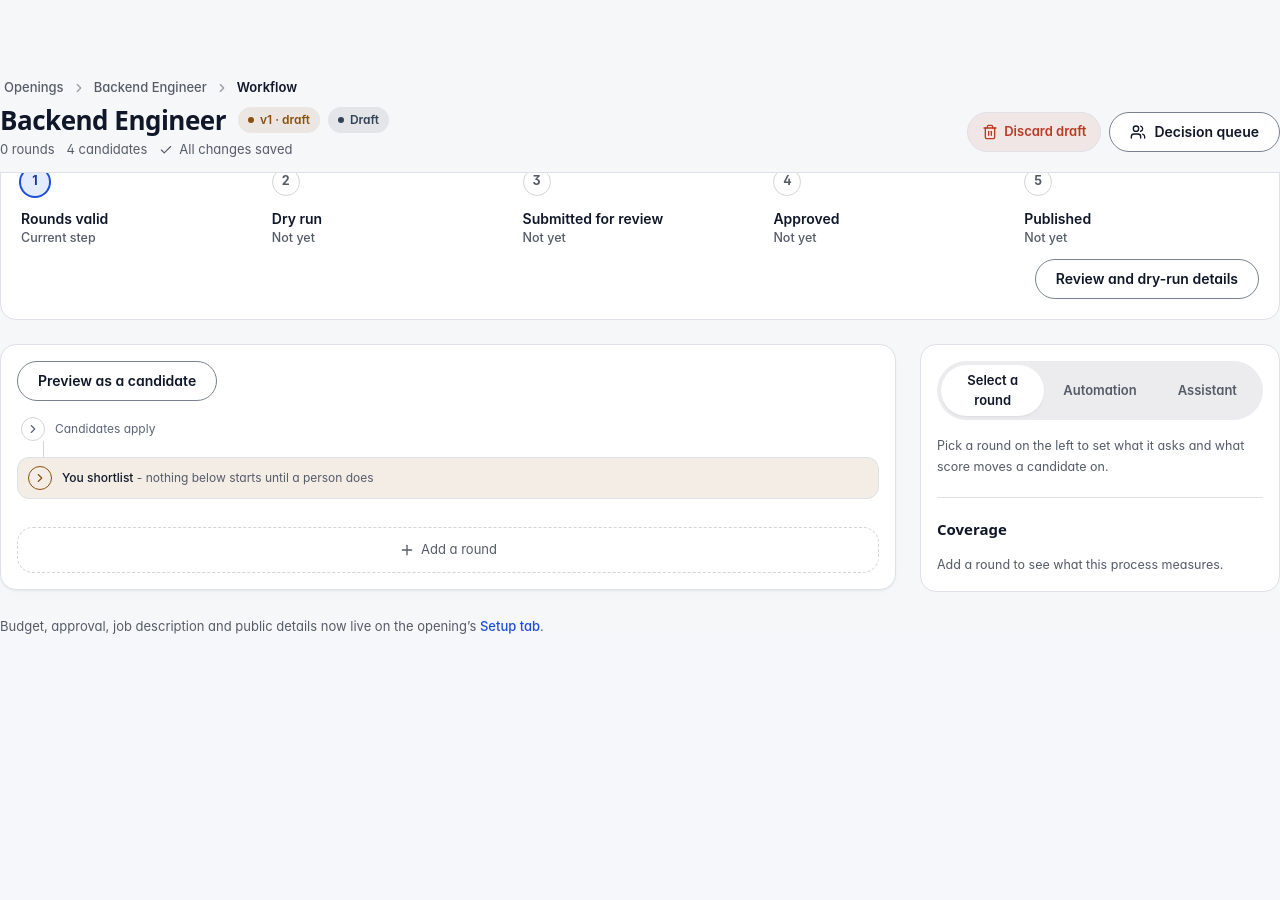
Test: WorkflowCopilot - citations (PH5-E1) › says no records were read when the reply cites nothing
Click the tab "Assistant" at (1207, 391), box [1156,365,1259,416]
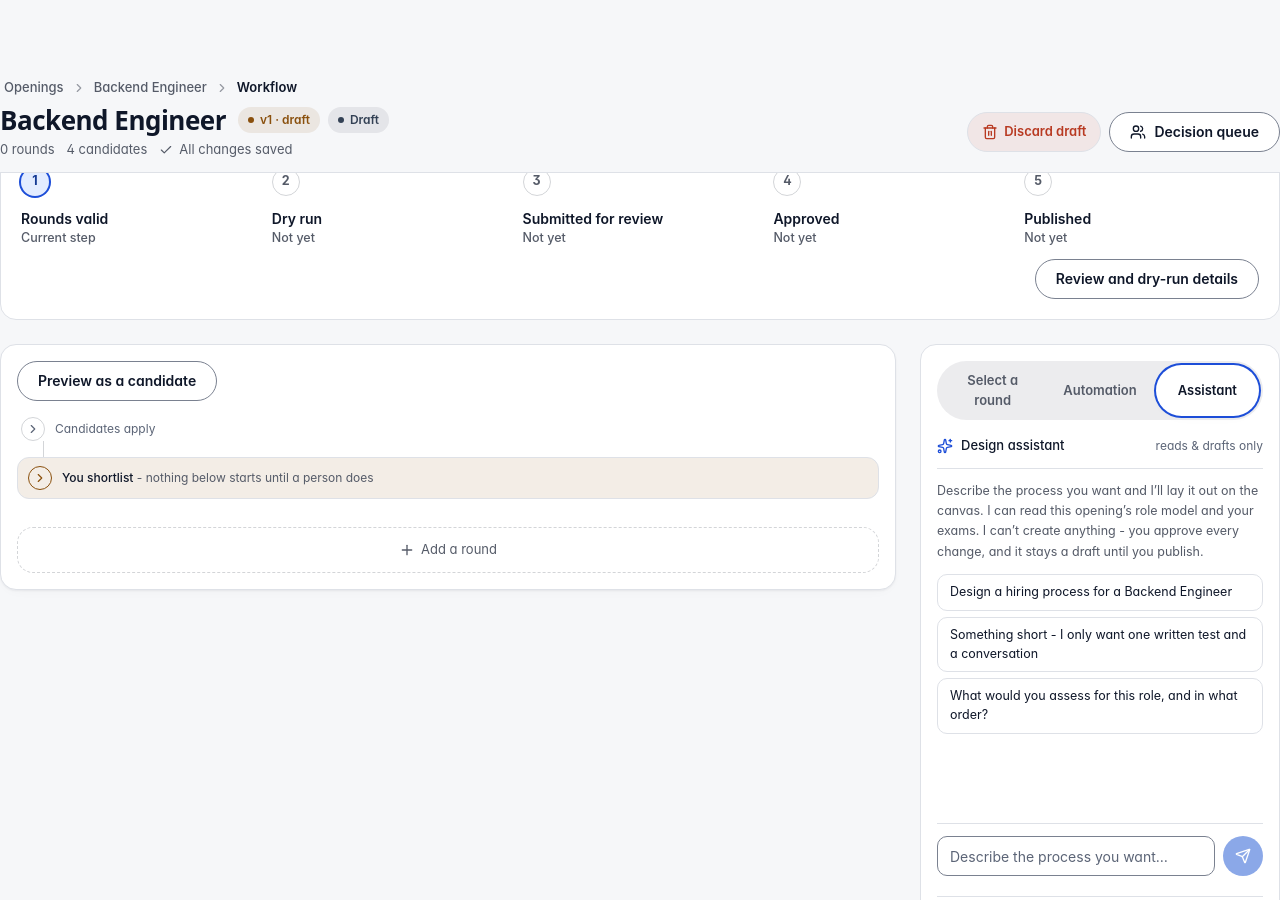
Type "design something short" into the field named "Ask the design assistant" at (1076, 856), box [937,836,1215,876]
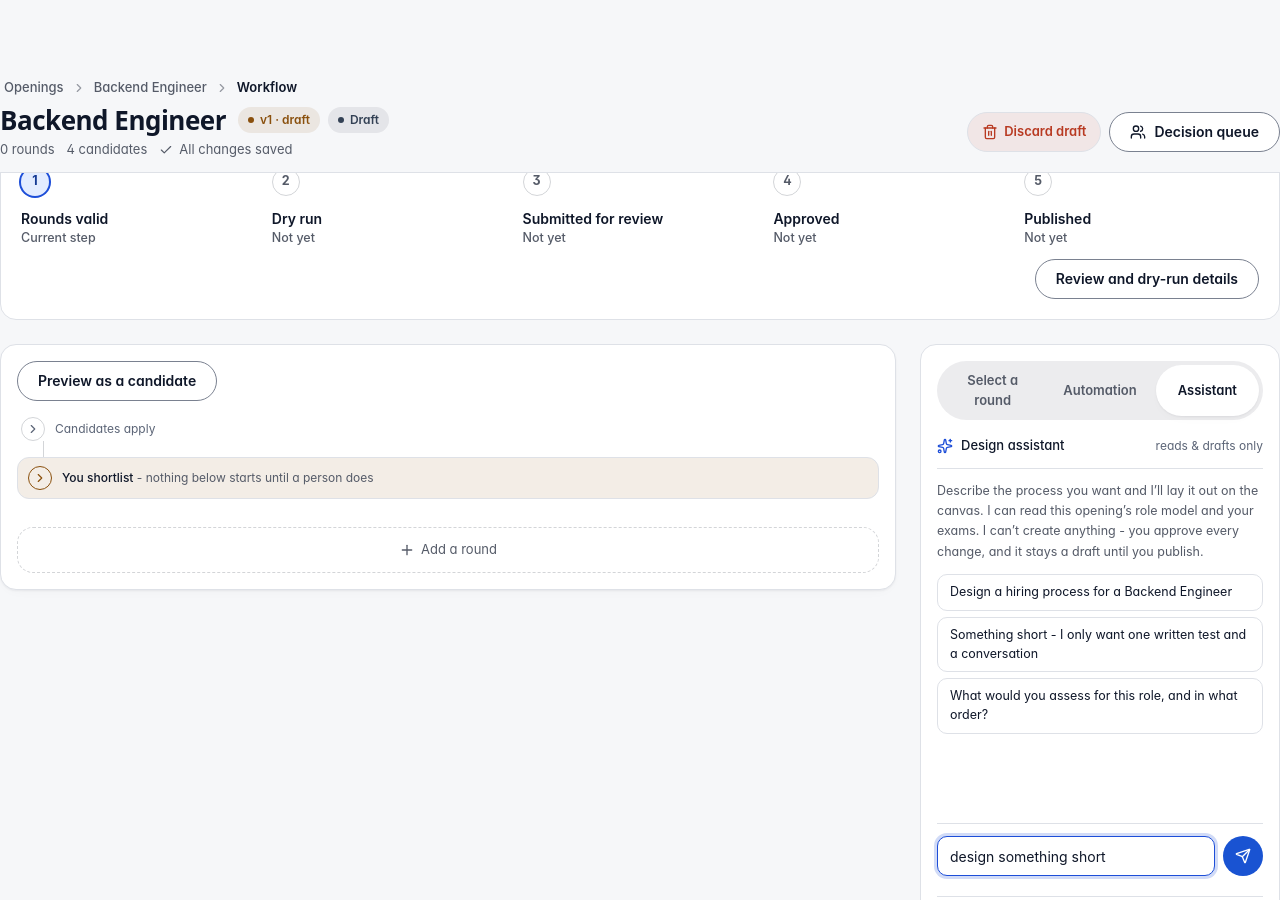
Click the button named "Send" at (1243, 856), box [1223,836,1263,876]
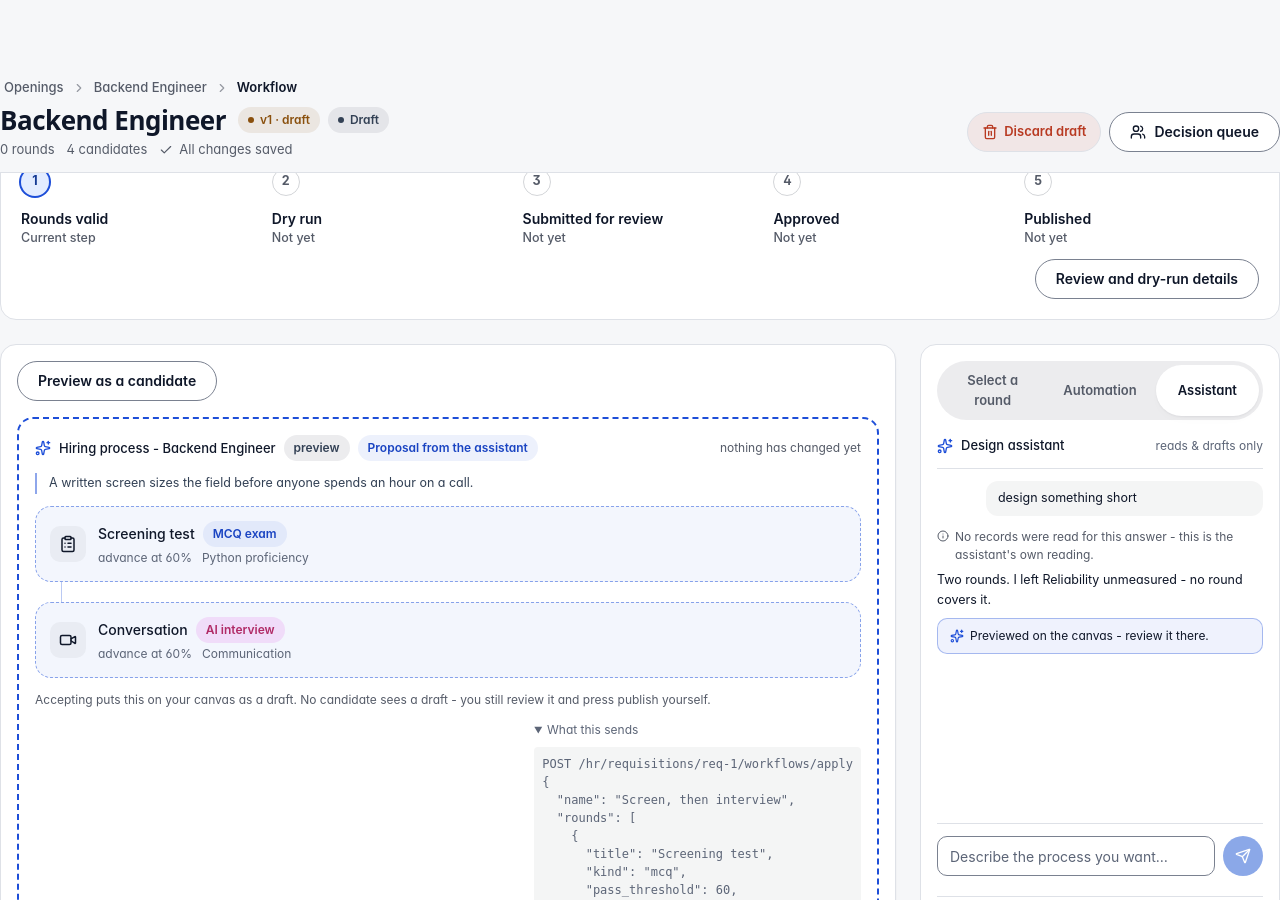
Check: the text "No records were read for this answer" is shown, box [955,528,1233,562]
